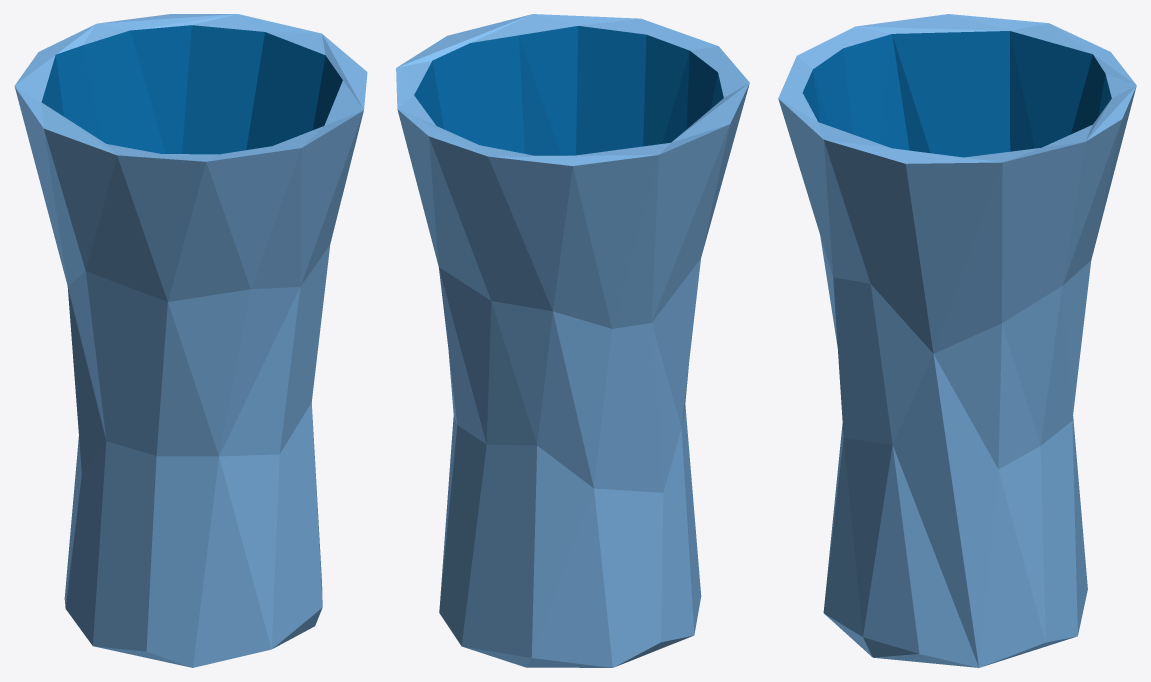
The model's file is ShotGlass.fbx.
The picture shows the model from 3 angles, left to right: view 1: azimuth 30°, elevation 25°; view 2: azimuth 150°, elevation 25°; view 3: azimuth 270°, elevation 25°; orthographic projection.
Visible parts, largest first — view 1: ShotGlassLowPoly; view 2: ShotGlassLowPoly; view 3: ShotGlassLowPoly.
Part boxes in pixels (left/top/right/bottom): ShotGlassLowPoly: left=14, top=14, right=367, bottom=667; ShotGlassLowPoly: left=396, top=14, right=749, bottom=667; ShotGlassLowPoly: left=778, top=14, right=1136, bottom=667.
Bounding box in the file's own units: 5.99 × 9.94 × 6.08.
